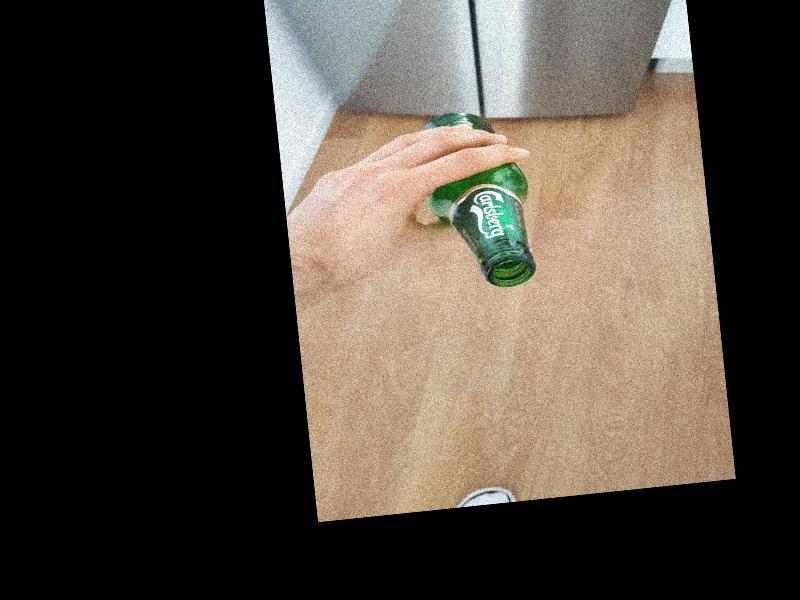Beer: (419, 106, 537, 294)
